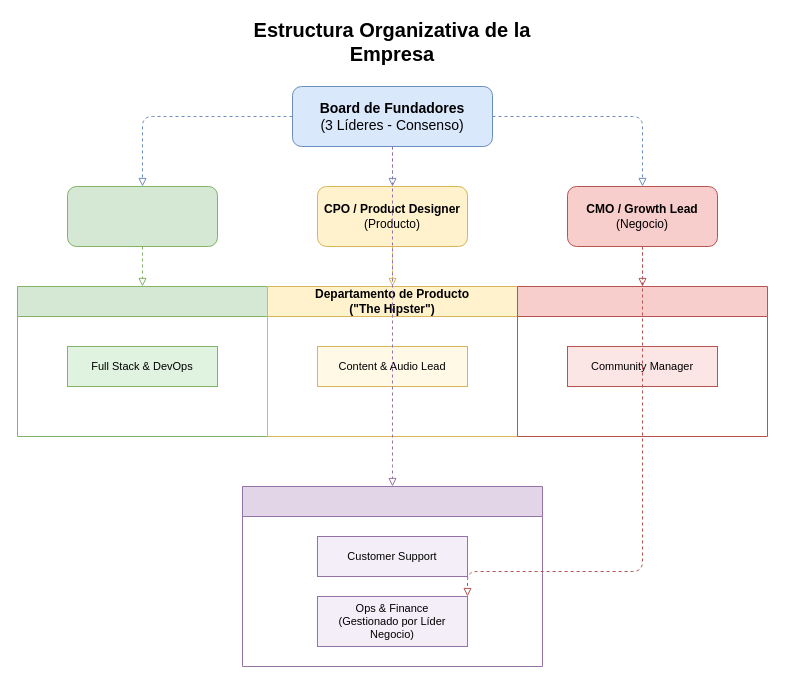
The diagram is 785 pixels wide and 684 high, and some of its shapes have lost their labels. Here are the shapes that lost their labels. From the top down, the box of each, then its label:
(66, 186, 218, 246): CTO / Lead Dev (Tecnología)
(16, 286, 268, 436): Departamento de Desarrollo ("The Hacker")
(516, 286, 768, 436): Departamento de Marketing y Ventas ("The Hustler")
(242, 486, 542, 666): Departamentos de Soporte y Administración (Responsabilidad Compartida)
